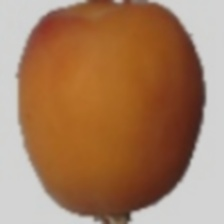apricot: (4, 8, 201, 196)
